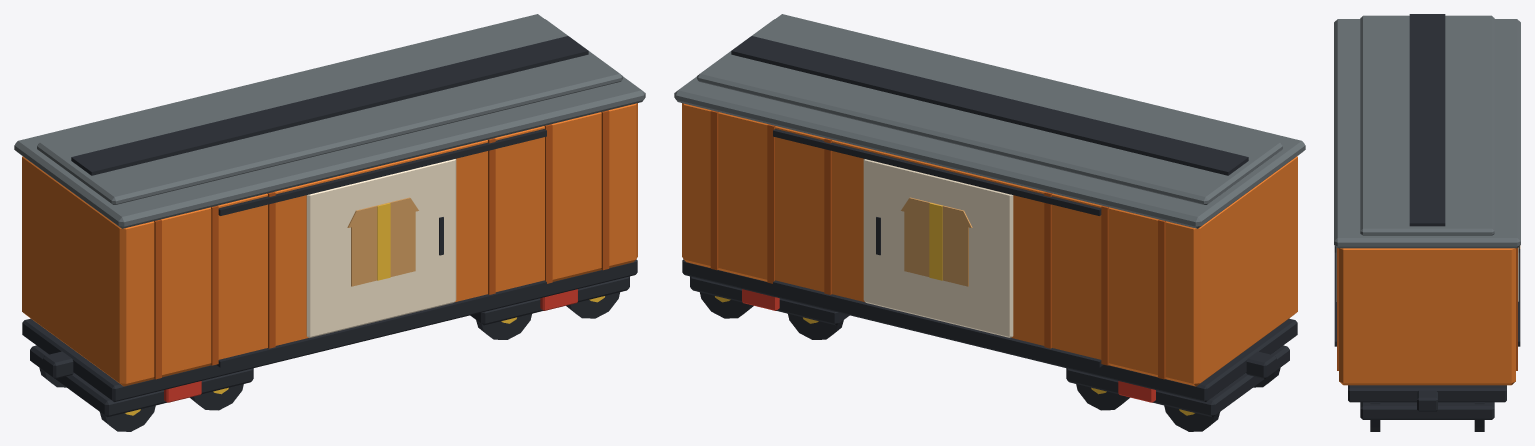
File: sm_env_rail_wagon_boxcar.glb
3 views of the same model, side by side, from view 1: azimuth 30°, elevation 25°; view 2: azimuth 150°, elevation 25°; view 3: azimuth 270°, elevation 25° (orthographic). The views are drawn at different scales.
Parts seen in each view (by area): view 1: Body, RoofRidge, Roof, Door, RoofWalk, Frame, LogoBox, DoorRail.001, DoorRail, BogieFrame, BogieFrame.001, Rib.005 (+12 smaller); view 2: Body, RoofRidge, Roof, Door, RoofWalk, Frame, LogoBox.001, DoorRail.001, DoorRail, BogieFrame, BogieFrame.001, Rib.005 (+12 smaller); view 3: Body, RoofRidge, Roof, RoofWalk, Frame, BogieFrame.001, DoorRail, Rib.005, Coupler.001.
Boxes of the visible parts, x1,y1,x2,y2 form: Body: (22, 103, 637, 386); RoofRidge: (37, 19, 622, 204); Roof: (14, 14, 645, 228); Door: (306, 159, 456, 337); RoofWalk: (71, 36, 588, 175); Frame: (22, 259, 637, 401); LogoBox: (351, 211, 415, 286); DoorRail.001: (218, 129, 546, 215); DoorRail: (216, 280, 546, 367); BogieFrame: (30, 345, 253, 417); BogieFrame.001: (470, 276, 629, 325); Rib.005: (601, 110, 609, 270); Body: (682, 103, 1297, 386); RoofRidge: (697, 19, 1282, 204); Roof: (674, 14, 1305, 228); Door: (863, 159, 1013, 337); RoofWalk: (731, 36, 1248, 175); Frame: (682, 259, 1297, 401); LogoBox.001: (904, 211, 968, 286); DoorRail.001: (773, 129, 1101, 215); DoorRail: (773, 280, 1103, 367); BogieFrame: (1066, 345, 1289, 417); BogieFrame.001: (690, 276, 849, 325); Rib.005: (710, 110, 718, 270); Body: (1339, 248, 1515, 385); RoofRidge: (1360, 15, 1494, 235); Roof: (1334, 19, 1520, 248); RoofWalk: (1409, 14, 1445, 226); Frame: (1348, 385, 1506, 402); BogieFrame.001: (1360, 402, 1494, 419); DoorRail: (1334, 249, 1520, 346); Rib.005: (1337, 248, 1517, 370); Coupler.001: (1417, 390, 1437, 411).
Bounding box in the file's own units: 7.94 × 3.33 × 2.64.
